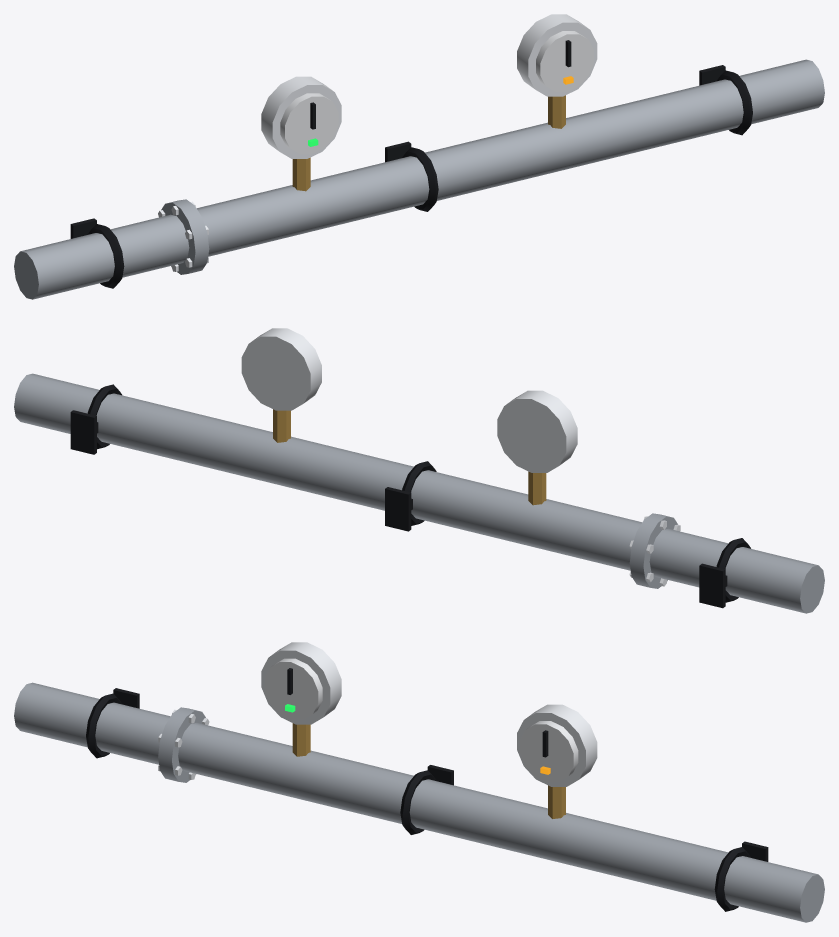
Rendered from pipe_gauge_tap.glb.
3 renders of one model, top to bottom at view 1: azimuth 30°, elevation 25°; view 2: azimuth 150°, elevation 25°; view 3: azimuth 330°, elevation 25°, orthographic.
Visible parts, largest first — view 1: pipe_gauge_tap; view 2: pipe_gauge_tap; view 3: pipe_gauge_tap.
Part boxes in pixels (left/top/right/bottom): pipe_gauge_tap: left=14, top=14, right=824, bottom=299; pipe_gauge_tap: left=14, top=328, right=824, bottom=613; pipe_gauge_tap: left=14, top=642, right=824, bottom=922.
Bounding box in the file's own units: 2 × 0.3904 × 0.1825.
